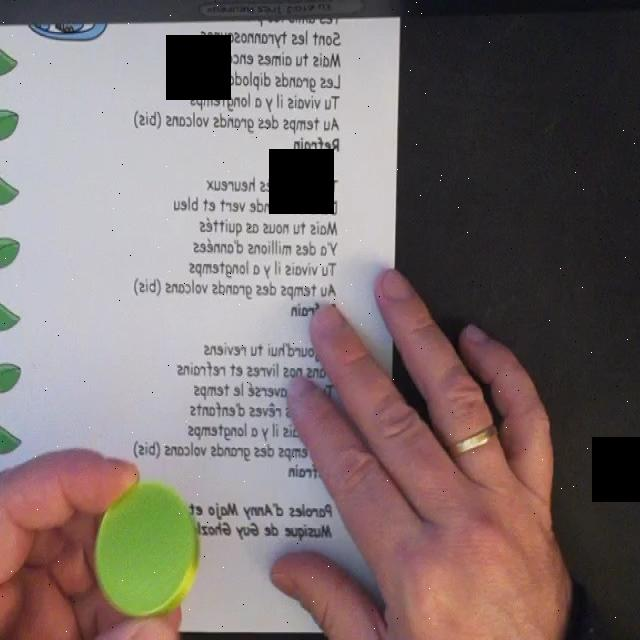round: (94, 484, 200, 616)
